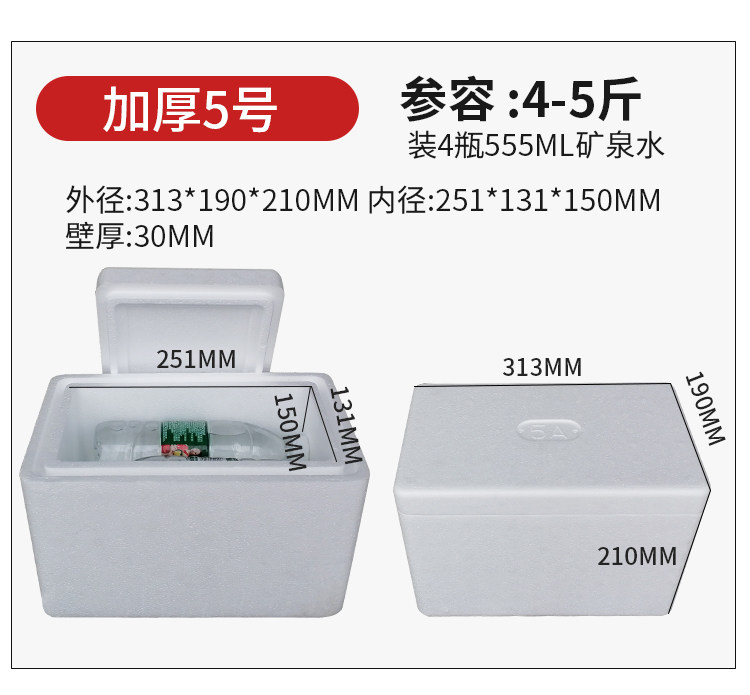Boxes: (20, 268, 369, 617), (394, 383, 710, 615)
